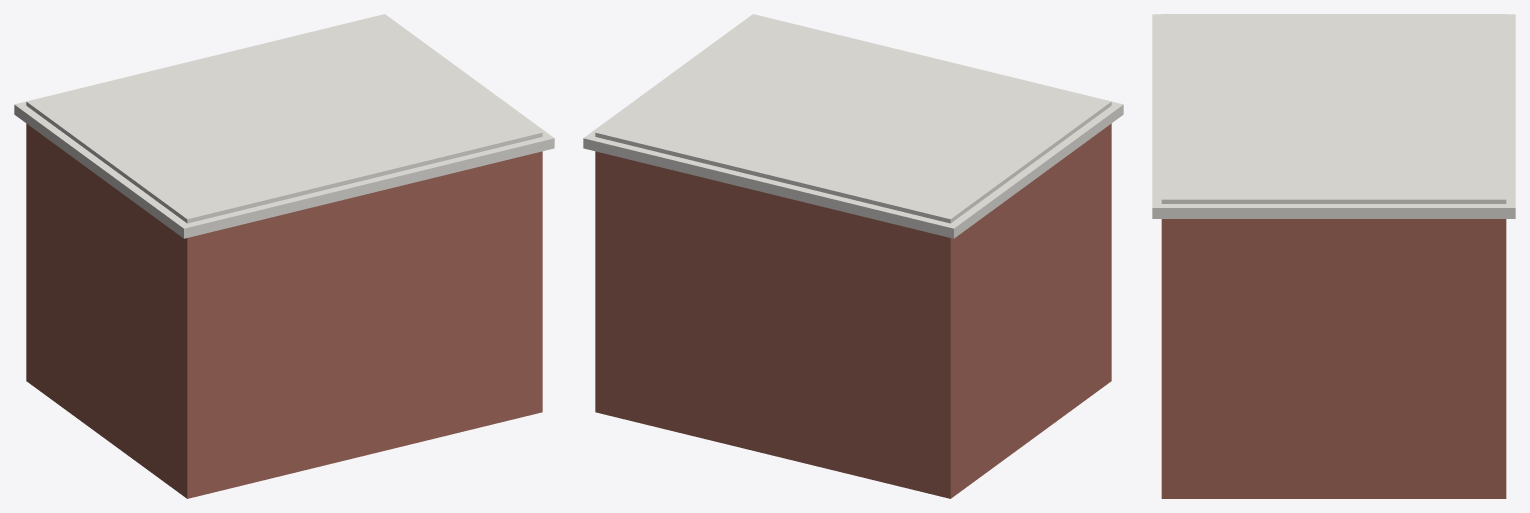
The picture shows the model from 3 angles, left to right: view 1: azimuth 30°, elevation 25°; view 2: azimuth 150°, elevation 25°; view 3: azimuth 270°, elevation 25°; orthographic projection. The views are drawn at different scales.
Visible parts, largest first — view 1: TownBody.002, TownBody.006, TownRoof.002, TownRoof.004, TownRoof.006, TownCornice.002, TownCornice.006, TownCornice.004; view 2: TownBody.002, TownBody.004, TownRoof.004, TownRoof.002, TownCornice.002, TownCornice.004, TownRoof.006, TownCornice.006; view 3: TownBody.004, TownBody.006, TownRoof.002, TownRoof.004, TownRoof.006, TownCornice.004, TownCornice.006, TownCornice.002.
Part boxes in pixels (x1,y1,x2,y2): TownBody.002: [26, 123, 335, 498]; TownBody.006: [336, 151, 542, 462]; TownRoof.002: [26, 51, 392, 223]; TownRoof.004: [176, 15, 541, 182]; TownRoof.006: [180, 15, 542, 187]; TownCornice.002: [14, 50, 405, 238]; TownCornice.006: [268, 15, 554, 202]; TownCornice.004: [164, 14, 554, 191]; TownBody.002: [744, 123, 1111, 498]; TownBody.004: [595, 151, 744, 448]; TownRoof.004: [595, 15, 961, 182]; TownRoof.002: [744, 51, 1111, 223]; TownCornice.002: [732, 50, 1123, 238]; TownCornice.004: [583, 14, 970, 191]; TownRoof.006: [729, 17, 958, 179]; TownCornice.006: [583, 14, 820, 182]; TownBody.004: [1161, 219, 1506, 498]; TownBody.006: [1161, 219, 1506, 498]; TownRoof.002: [1161, 14, 1506, 121]; TownRoof.004: [1161, 117, 1506, 203]; TownRoof.006: [1161, 117, 1506, 203]; TownCornice.004: [1152, 92, 1515, 218]; TownCornice.006: [1152, 92, 1515, 218]; TownCornice.002: [1152, 14, 1515, 128].
Size of what is drawn, in the model's own units: 7184019 by 5179200 by 5700096.
